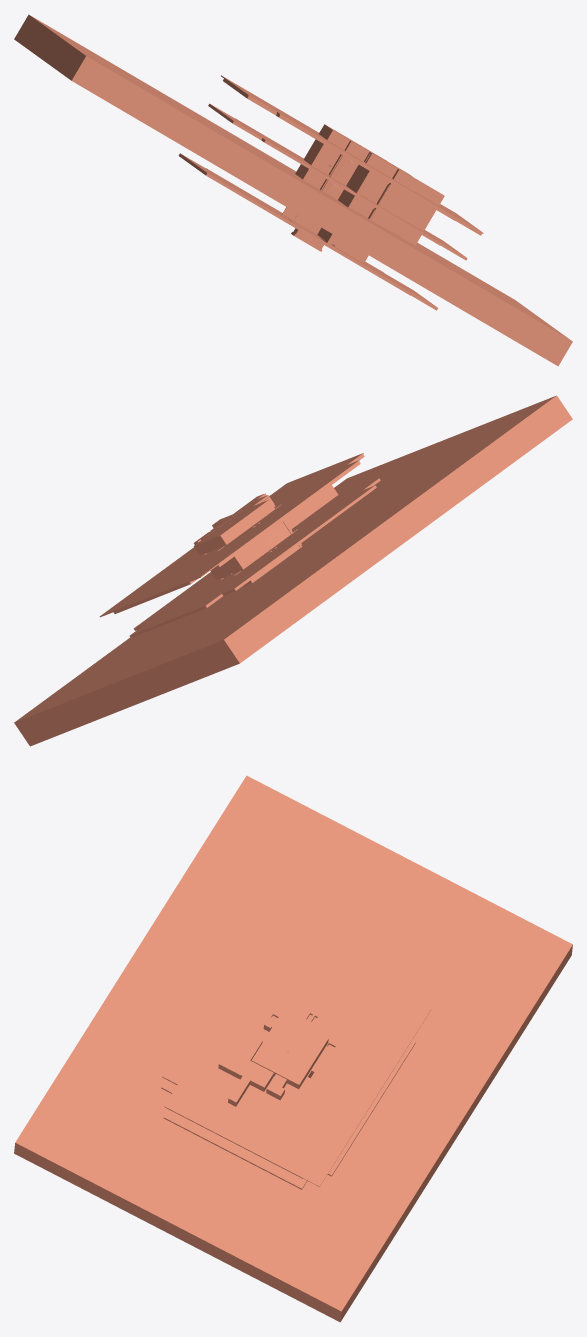
3 views of the same model, one above another, from view 1: azimuth 30°, elevation 25°; view 2: azimuth 150°, elevation 25°; view 3: azimuth 270°, elevation 25° (orthographic). The views are drawn at different scales.
Visible parts, largest first — view 1: mesh; view 2: mesh; view 3: mesh.
Part boxes in pixels (x1,y1,x2,y2): mesh: (14, 14, 572, 366); mesh: (14, 395, 572, 746); mesh: (14, 775, 572, 1322).
Size of the model in its own units: 60.11 by 48.67 by 69.44.
